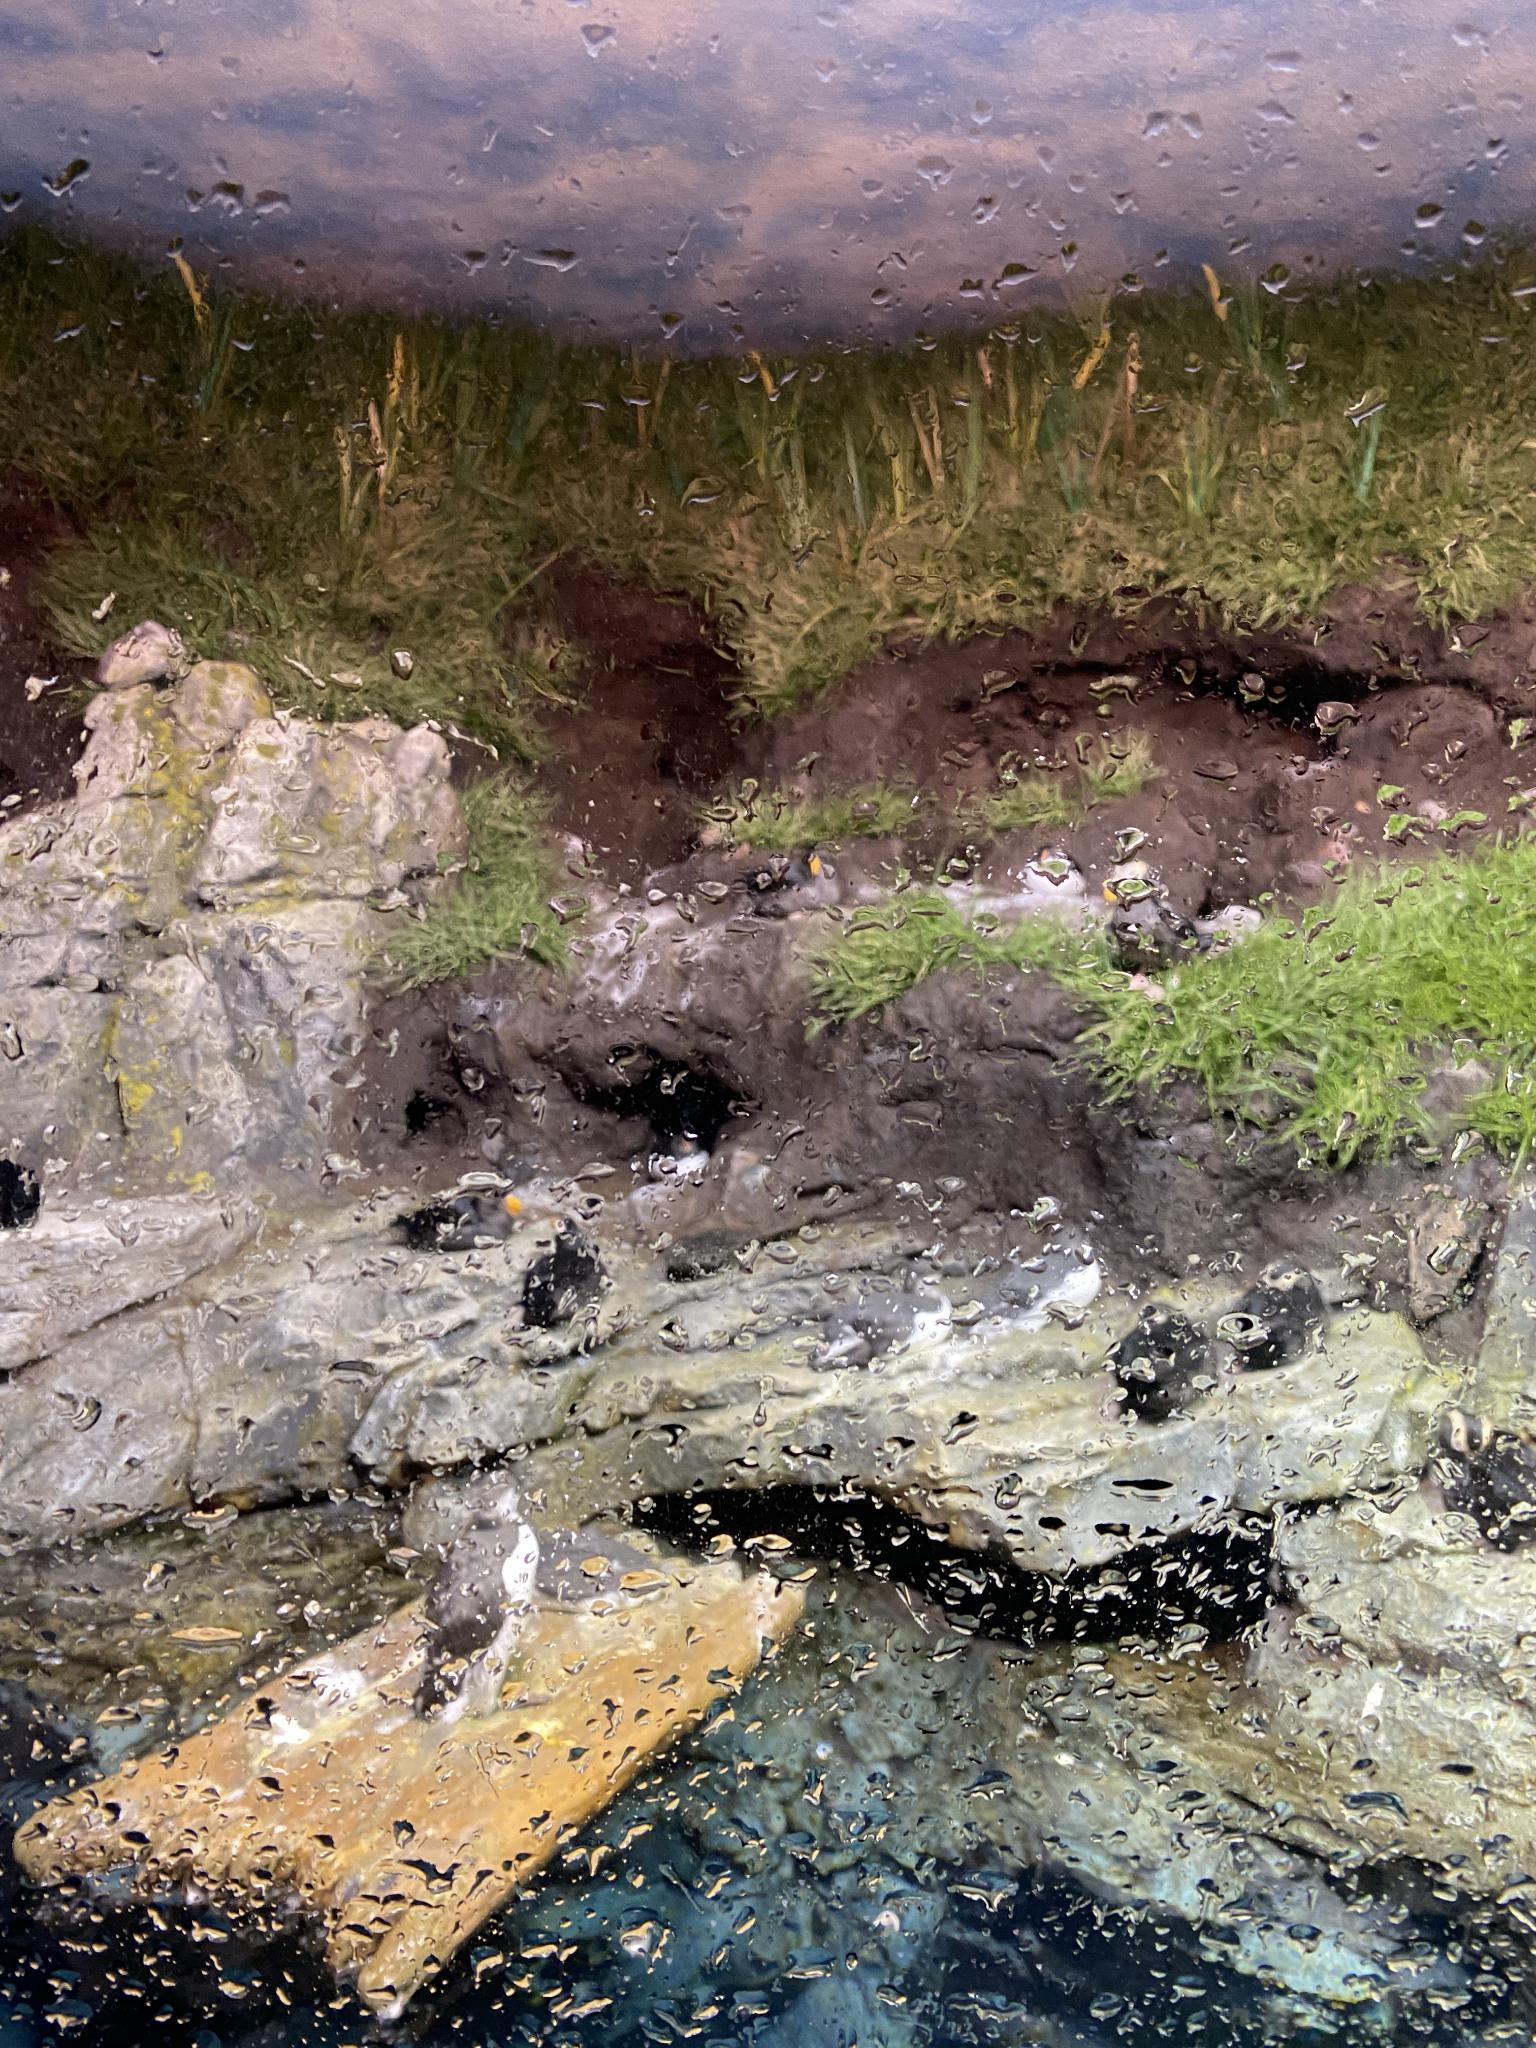puffin: (413, 1485, 550, 1725), (1217, 1258, 1331, 1371), (1438, 1413, 1536, 1538), (1112, 1300, 1217, 1414), (529, 1526, 663, 1609), (387, 1180, 528, 1251), (520, 1218, 603, 1326), (1108, 876, 1205, 969), (741, 848, 842, 918), (644, 1127, 712, 1185)
